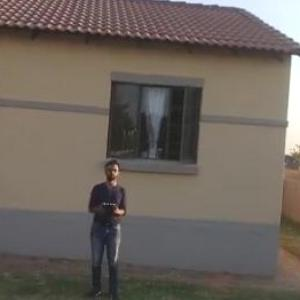follow: (79, 152, 131, 299)
